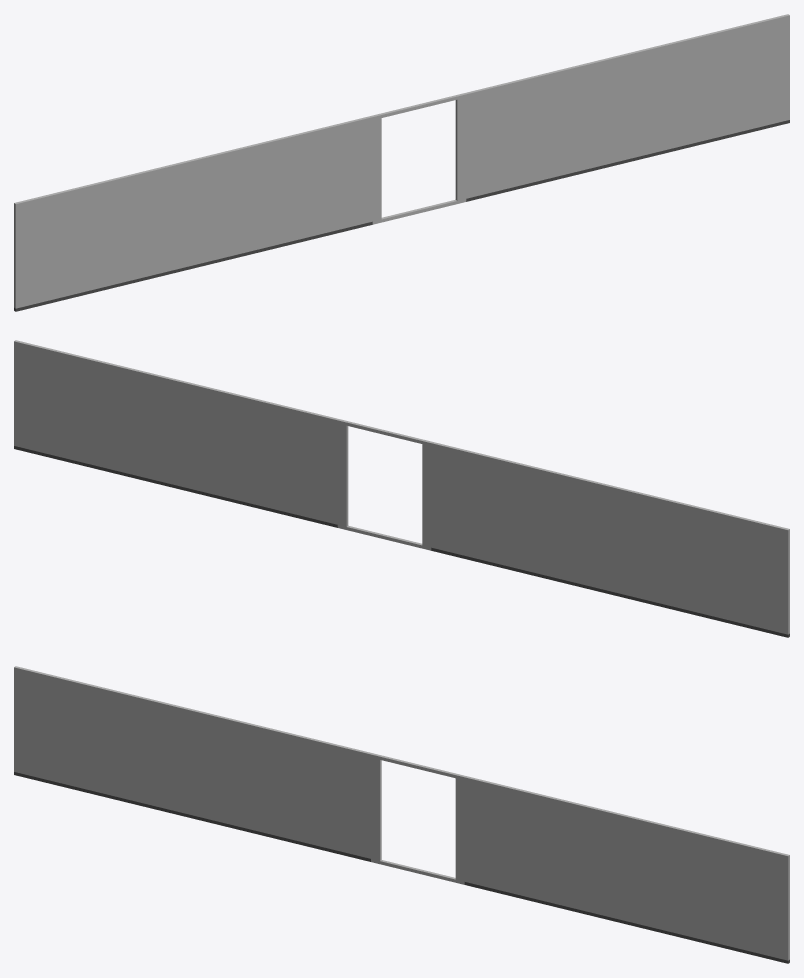
File: Mur.obj
3 renders of one model, top to bottom at view 1: azimuth 30°, elevation 25°; view 2: azimuth 150°, elevation 25°; view 3: azimuth 330°, elevation 25°, orthographic.
Size of the model in its own units: 25.6 by 3.4 by 0.1.
Materials: 1 (1 with a texture image).
